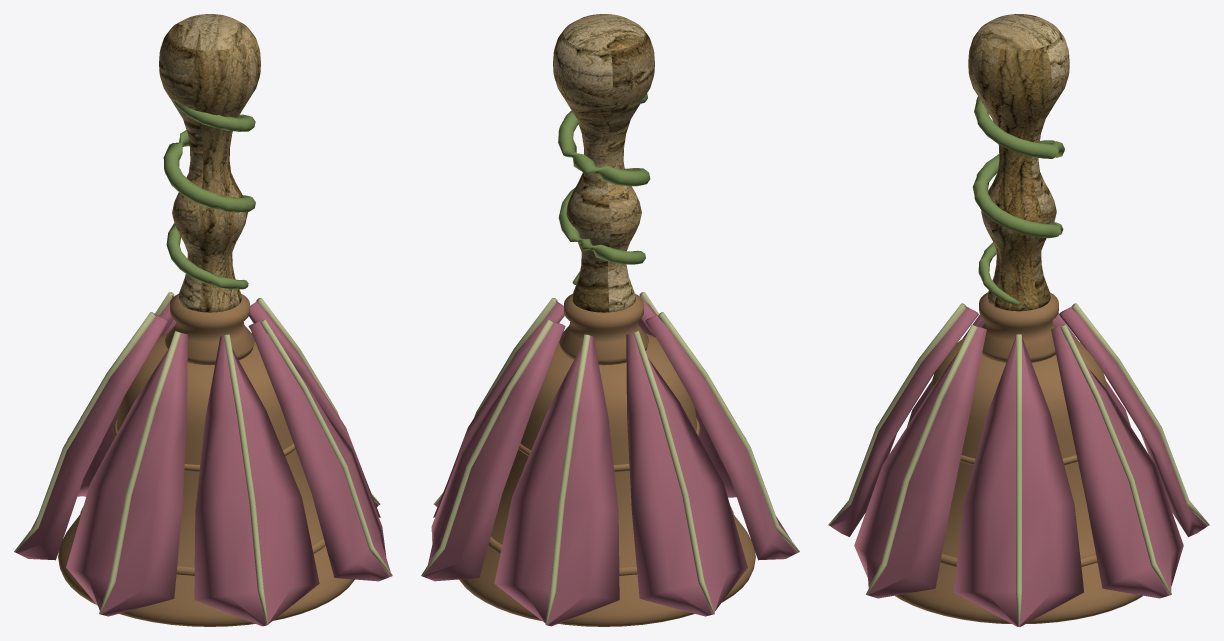
Rendered from bloom_bell.glb.
The picture shows the model from 3 angles, left to right: view 1: azimuth 30°, elevation 25°; view 2: azimuth 150°, elevation 25°; view 3: azimuth 270°, elevation 25°; orthographic projection.
Parts seen in each view (by area): view 1: BloomBell; view 2: BloomBell; view 3: BloomBell.
Boxes of the visible parts, x1,y1,x2,y2 form: BloomBell: [14, 14, 392, 626]; BloomBell: [421, 14, 799, 626]; BloomBell: [828, 14, 1209, 626].
Size of the model in its own units: 0.4219 by 0.675 by 0.4325.
5 materials, 1 textured.
